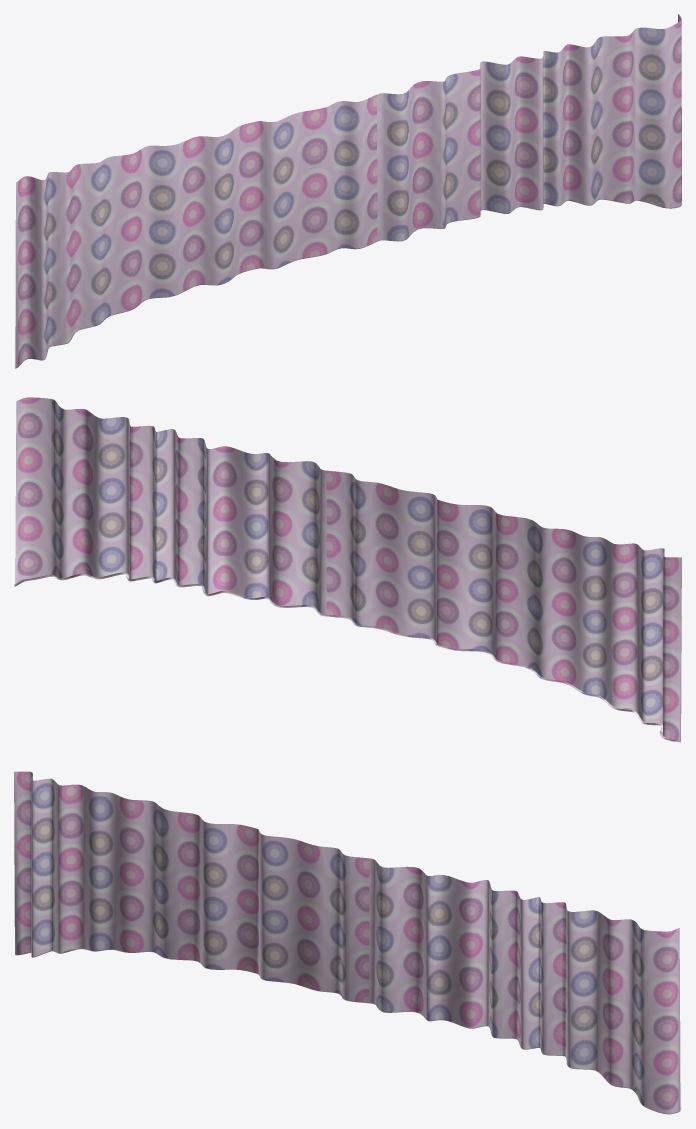
Rendered from Bedroom_Curtain.FBX.
3 views of the same model, one above another, from view 1: azimuth 30°, elevation 25°; view 2: azimuth 150°, elevation 25°; view 3: azimuth 330°, elevation 25° (orthographic).
Parts seen in each view (by area): view 1: Bedroom_Curtain; view 2: Bedroom_Curtain; view 3: Bedroom_Curtain.
Part boxes in pixels (left/top/right/bottom): Bedroom_Curtain: left=14, top=14, right=681, bottom=368; Bedroom_Curtain: left=14, top=397, right=681, bottom=742; Bedroom_Curtain: left=14, top=771, right=681, bottom=1114.
Size of the model in its own units: 226 by 60.4 by 9.39.
Materials: 1 (1 with a texture image).
